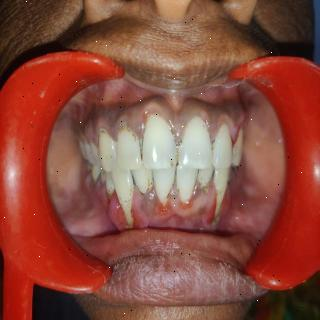Gum Swelling: (130, 104, 197, 148), (132, 182, 183, 229), (197, 109, 244, 145), (84, 114, 133, 147), (177, 182, 216, 217), (107, 192, 129, 232)
calculus: (120, 120, 145, 162), (199, 119, 217, 155), (171, 128, 187, 166), (209, 212, 226, 228), (207, 166, 221, 184)
stains: (175, 166, 200, 204), (153, 170, 177, 206), (98, 124, 116, 165), (134, 172, 155, 202), (225, 137, 248, 163), (197, 169, 215, 193), (84, 140, 94, 162)
